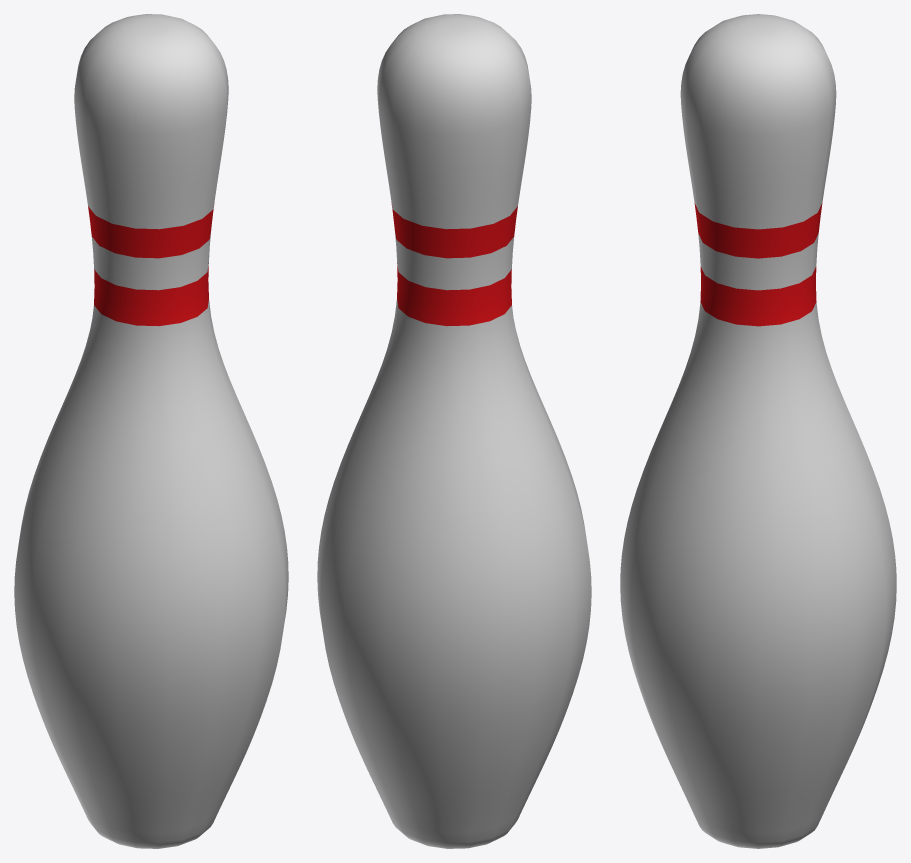
The model's file is pin.fbx.
3 views of the same model, side by side, from view 1: azimuth 30°, elevation 25°; view 2: azimuth 150°, elevation 25°; view 3: azimuth 270°, elevation 25° (orthographic).
Visible parts, largest first — view 1: Bowling pin.018; view 2: Bowling pin.018; view 3: Bowling pin.018.
Part boxes in pixels (x1,y1,x2,y2): Bowling pin.018: (14,14,288,848); Bowling pin.018: (317,14,591,848); Bowling pin.018: (620,14,896,848).
Size of the model in its own units: 11.76 by 37.96 by 11.76.
